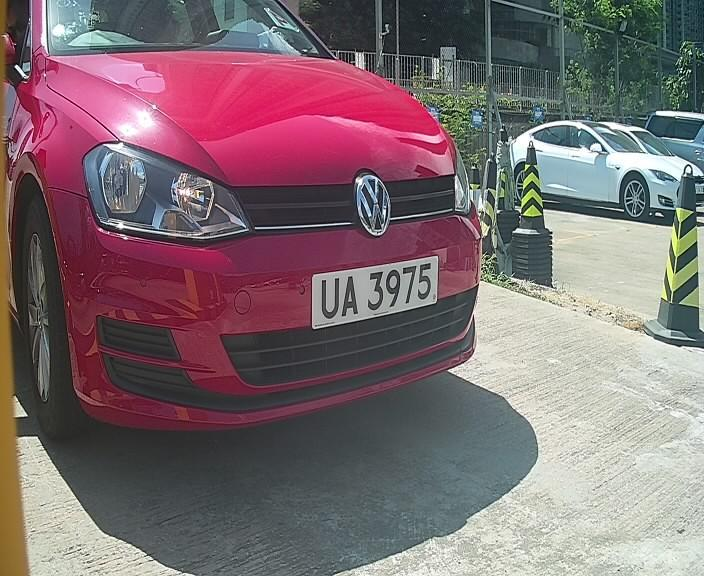privatecar: (16, 26, 513, 448)
